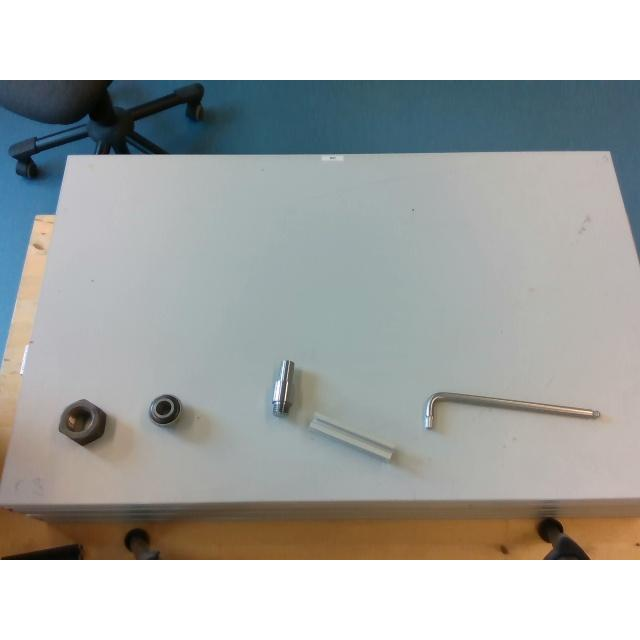AllenKey: (424, 391, 600, 429)
Axis2: (272, 358, 292, 414)
Bearing2: (148, 396, 180, 424)
F20_20_G: (308, 414, 394, 460)
M30: (58, 400, 105, 444)
